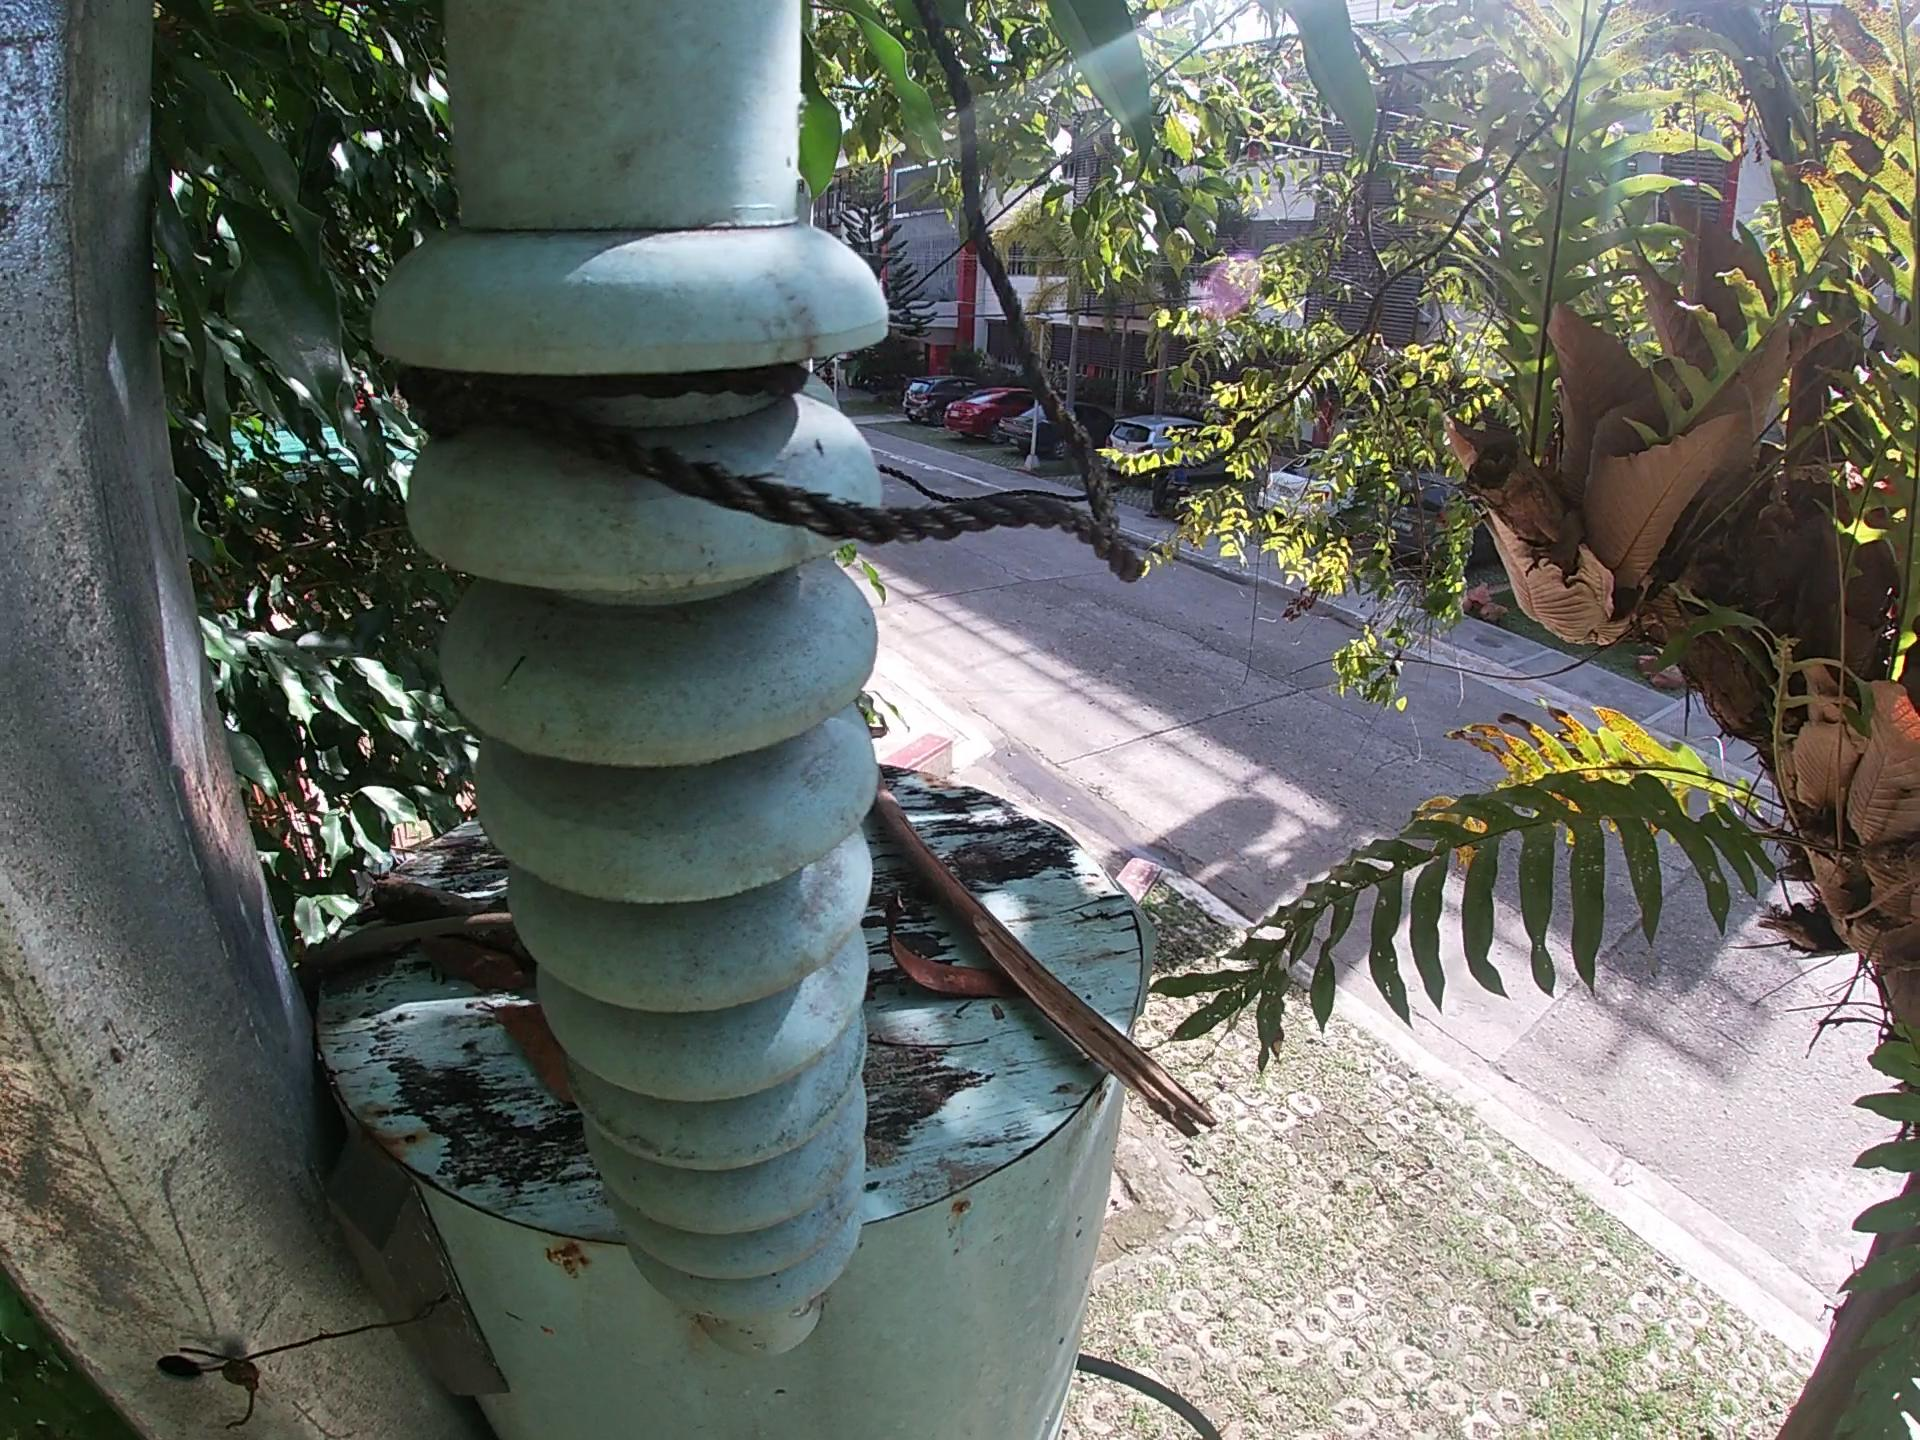leaf: (479, 1000, 594, 1110), (417, 939, 529, 989)
mahogany fruit: (881, 888, 1020, 1004)
tree branch: (871, 762, 1209, 1144), (290, 908, 525, 985), (369, 883, 484, 920)
